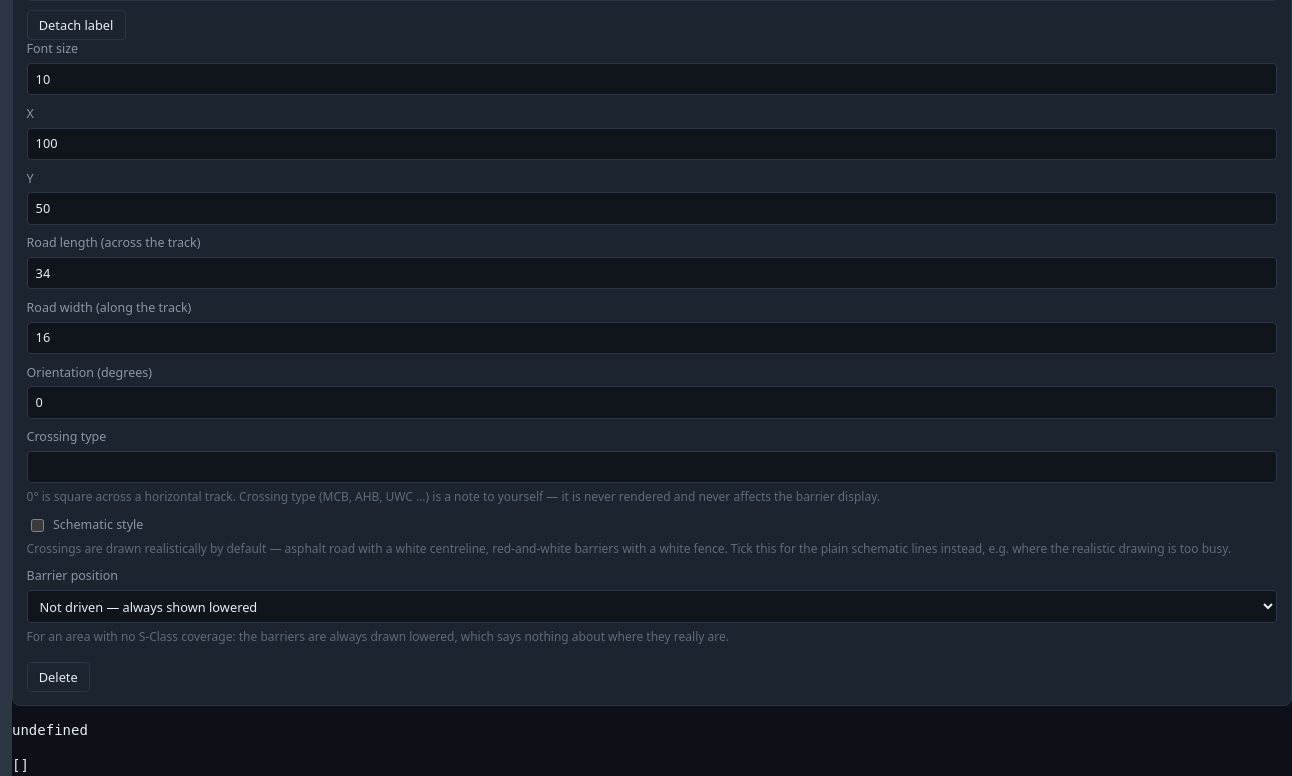
Test: PropertyPanel crossing style and barrier source (Milestone 59) › is realistic by default; the tickbox opts into schematic and unticking removes the field
(page scrolled)
Step 1. Click the checkbox labelled "Schematic style" → x=37, y=525, box left=31, top=519, right=44, bottom=532
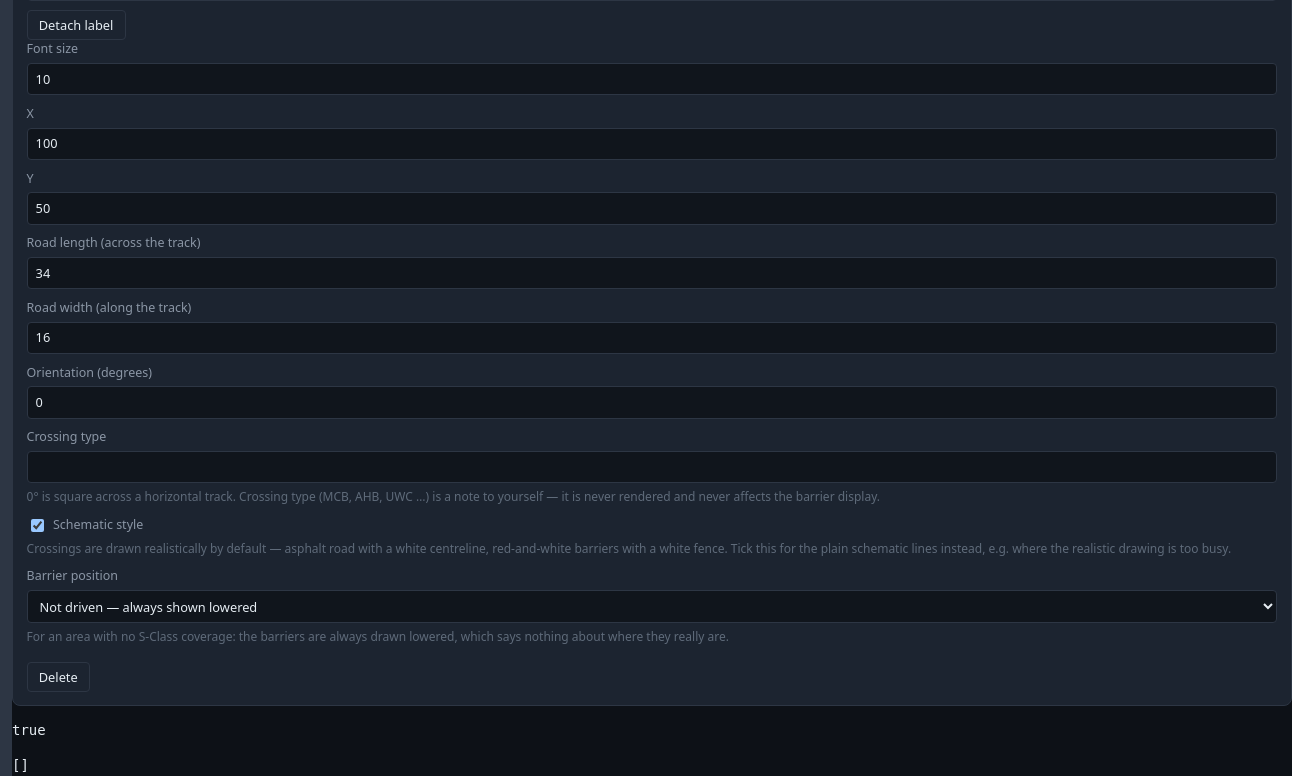
Check: the text with test id "schematic" reads "true", box left=12, top=722, right=46, bottom=738
Step 2. Click the checkbox labelled "Schematic style" → x=37, y=525, box left=31, top=519, right=44, bottom=532
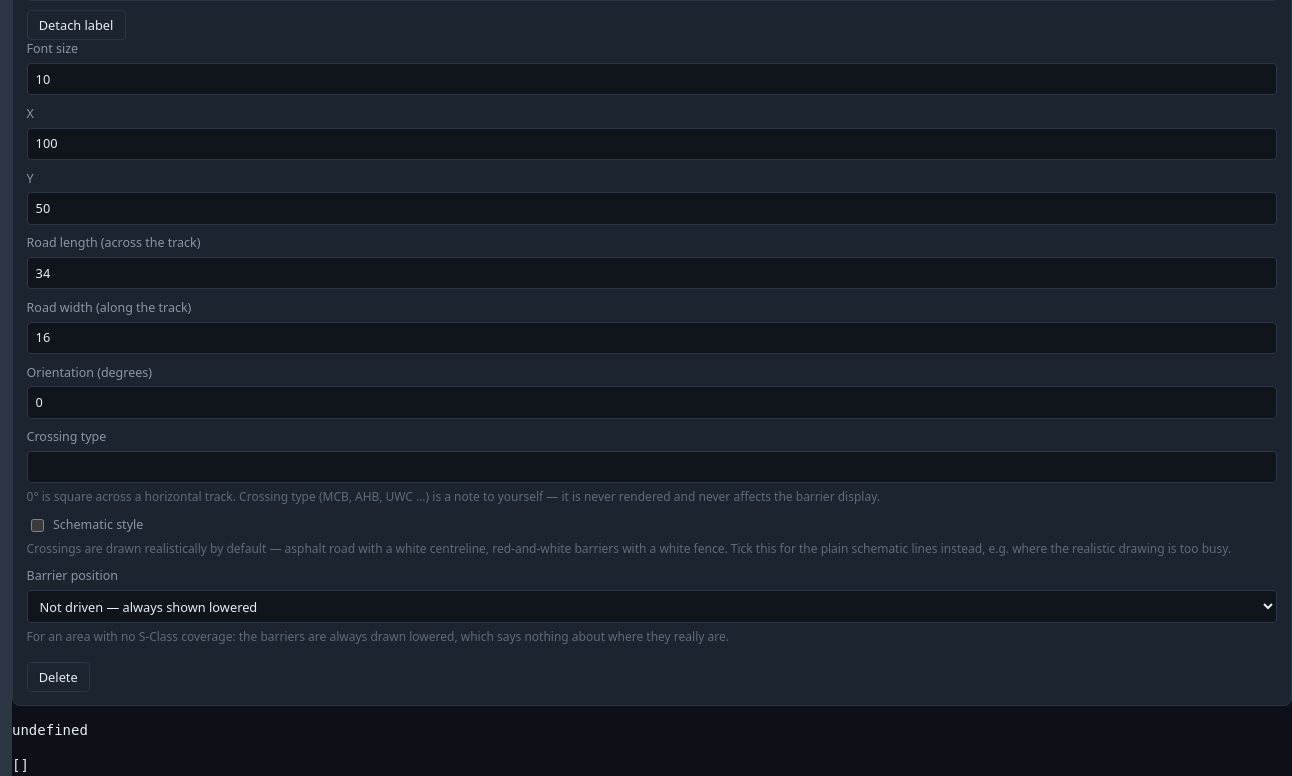
Check: the text with test id "schematic" reads "undefined", box left=12, top=722, right=88, bottom=738
